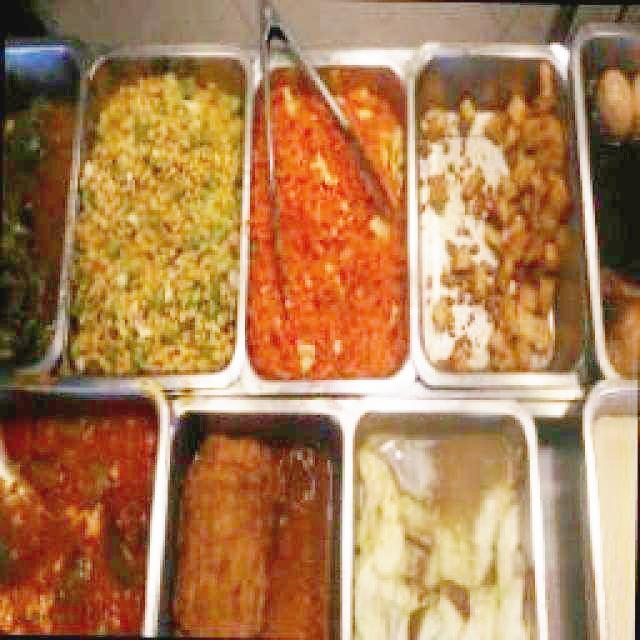carrot_eggs: (246, 64, 407, 385), (287, 123, 337, 289), (325, 184, 358, 309), (367, 241, 391, 307), (272, 93, 311, 115)
